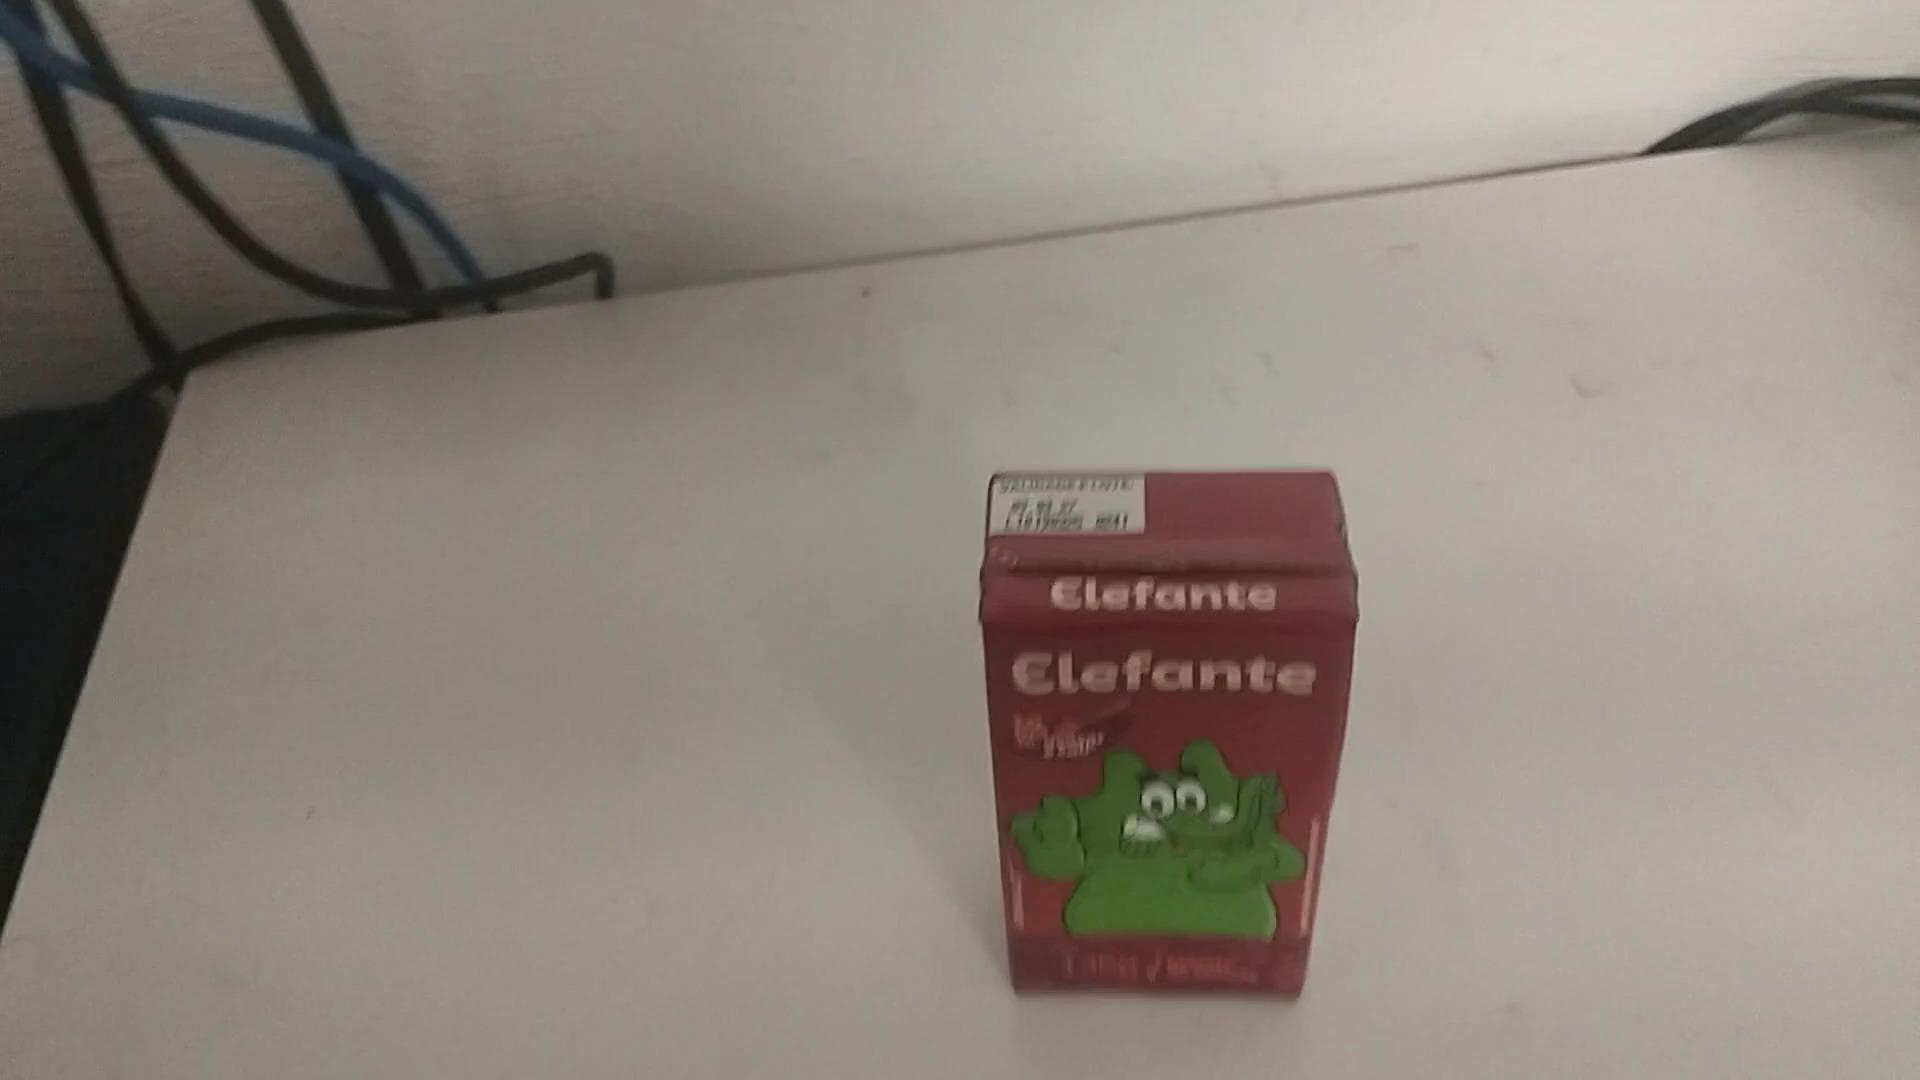tomate: (957, 451, 1357, 997)
